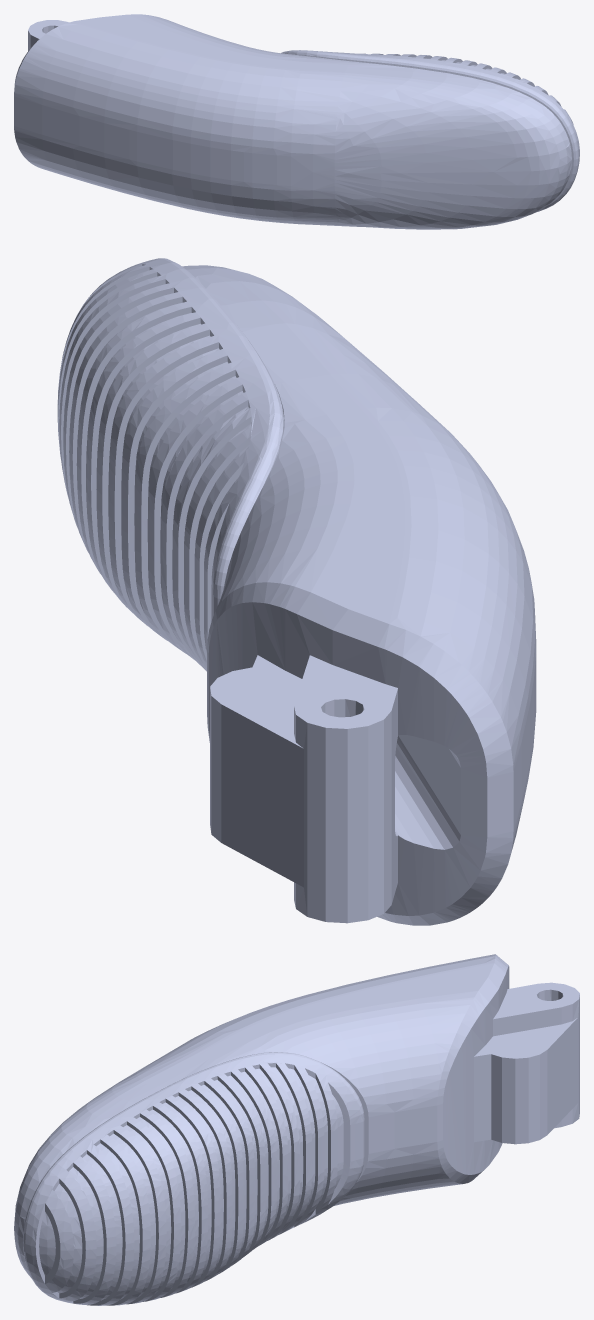
The model's file is lh_ring_distal_vis.obj.
3 views of the same model, one above another, from view 1: azimuth 30°, elevation 25°; view 2: azimuth 150°, elevation 25°; view 3: azimuth 270°, elevation 25° (orthographic). The views are drawn at different scales.
Visible parts, largest first — view 1: lh_ring_distal; view 2: lh_ring_distal; view 3: lh_ring_distal.
Boxes of the visible parts, x1,y1,x2,y2 form: lh_ring_distal: (14, 14, 579, 229); lh_ring_distal: (57, 258, 536, 925); lh_ring_distal: (14, 954, 579, 1305).
Size of the model in its own units: 0.0408 by 0.0159 by 0.042.
Materials: 1 (1 with a texture image).
